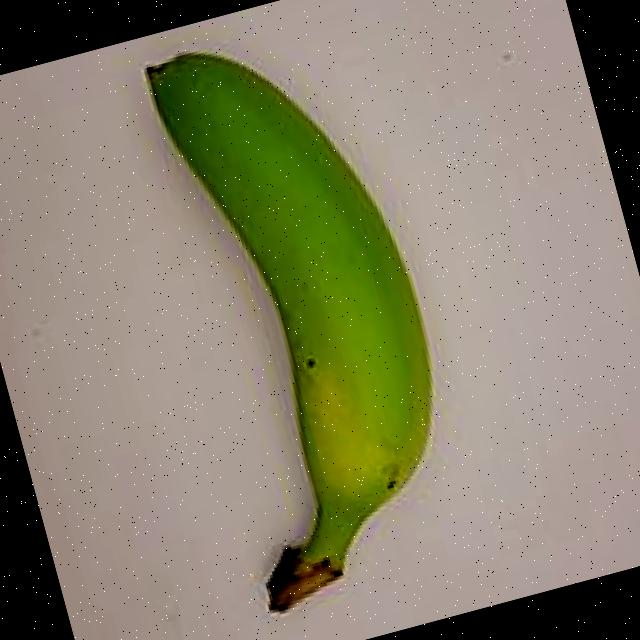Unripe: (39, 0, 552, 640)
